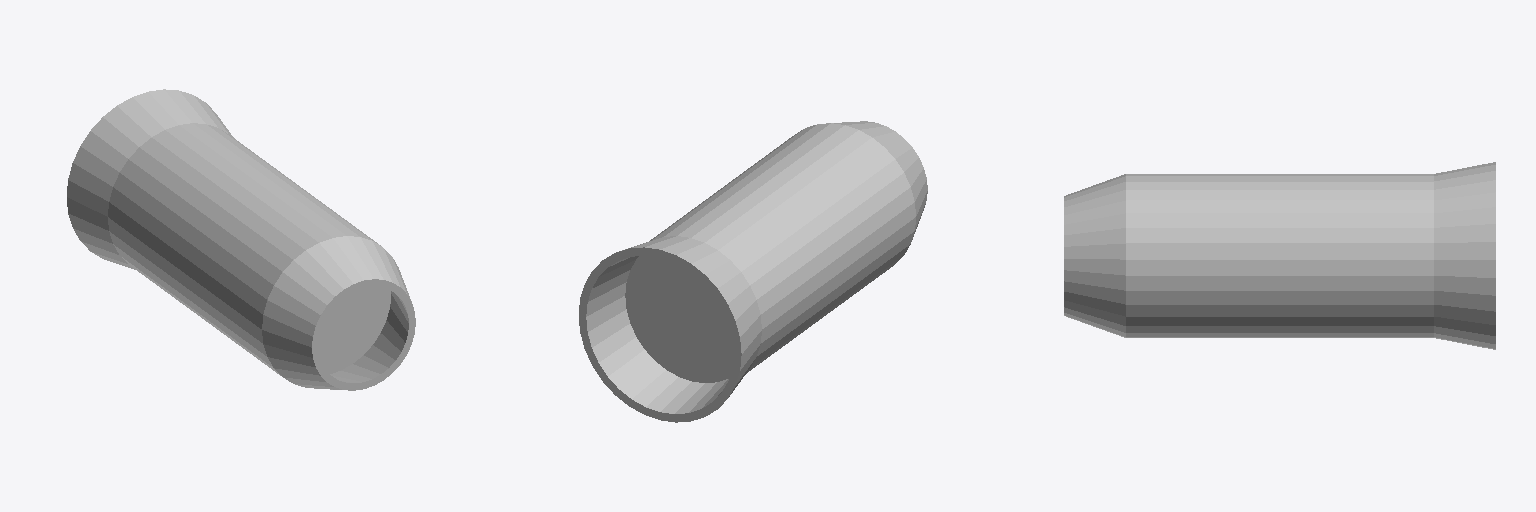
File: rocket_launcher_turret.obj
3 renders of one model, left to right at view 1: azimuth 30°, elevation 25°; view 2: azimuth 150°, elevation 25°; view 3: azimuth 270°, elevation 25°, orthographic.
Bounding box in the file's own units: 4.91 × 4.91 × 11.25.